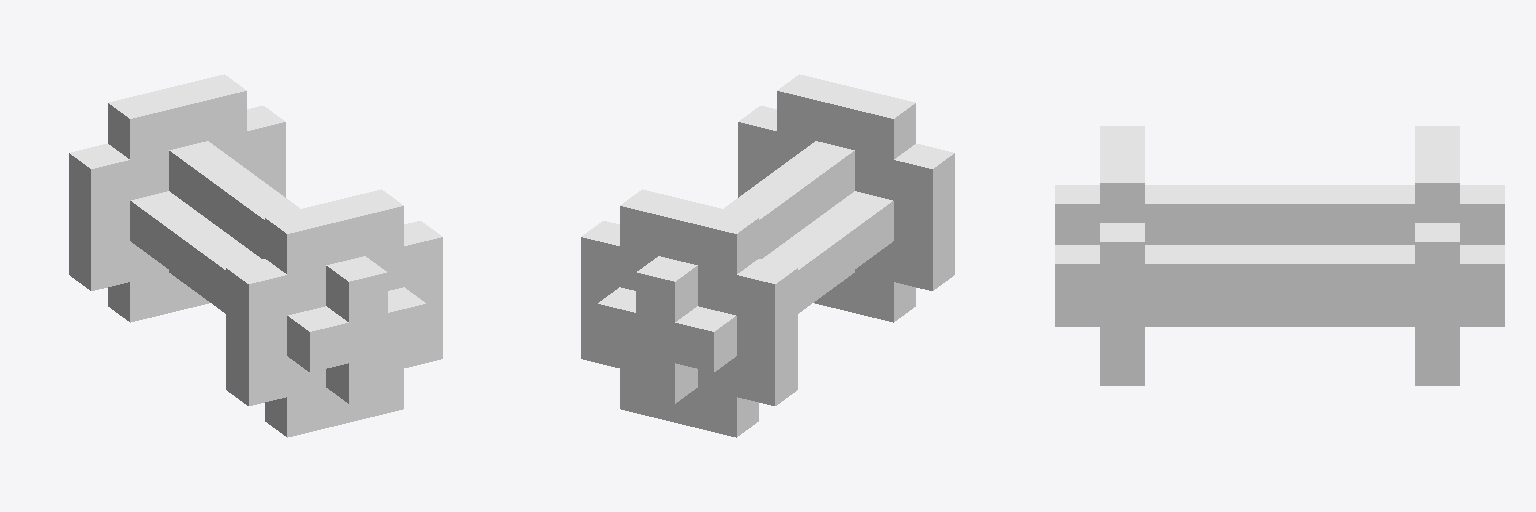
File: lvl2-29.obj
3 renders of one model, left to right at view 1: azimuth 30°, elevation 25°; view 2: azimuth 150°, elevation 25°; view 3: azimuth 270°, elevation 25°, orthographic.
Visible parts, largest first — view 1: object 1; view 2: object 1; view 3: object 1.
Part boxes in pixels (bbox=[...]): object 1: bbox=[69, 74, 442, 437]; object 1: bbox=[581, 74, 954, 437]; object 1: bbox=[1055, 126, 1504, 385].
Size of the model in its own units: 0.5 by 0.5 by 1.